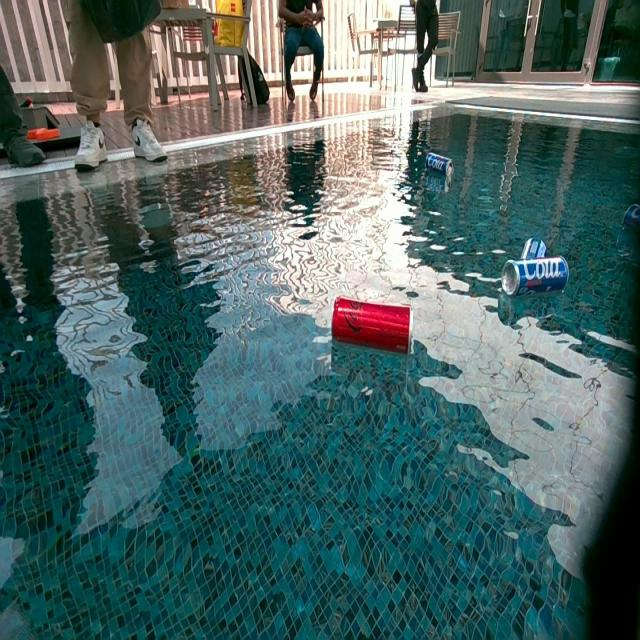Cans: (332, 299, 411, 356), (500, 259, 569, 301), (623, 202, 640, 244), (425, 154, 453, 178), (522, 236, 547, 258)
